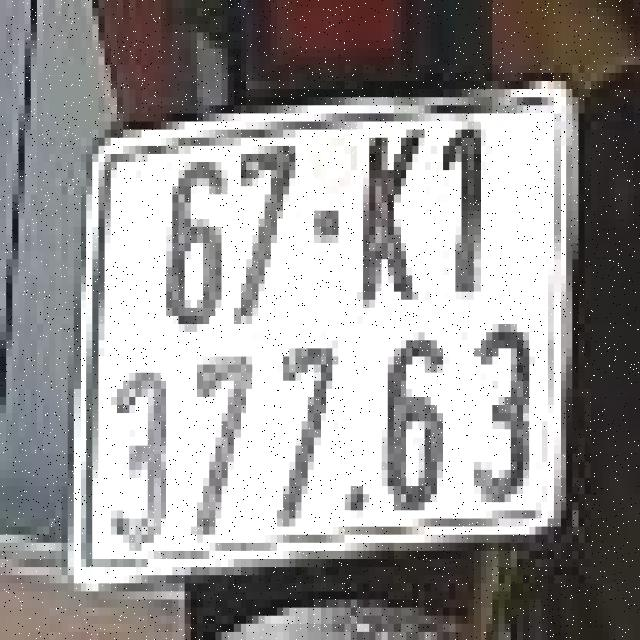1: (440, 125, 489, 304)
3: (471, 316, 538, 510), (108, 369, 175, 555)
6: (382, 332, 449, 519), (163, 154, 225, 332)
7: (230, 142, 304, 328), (191, 344, 258, 539), (268, 340, 335, 535)
K: (357, 121, 431, 308)
